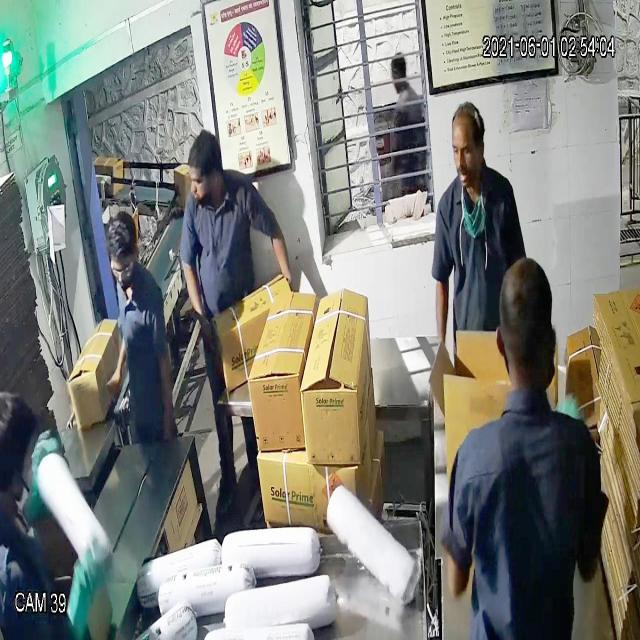glasses: (108, 251, 140, 287)
no-glass: (447, 130, 489, 168)
